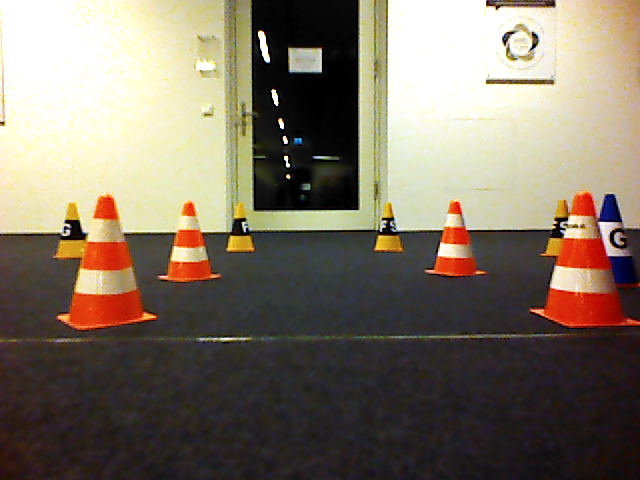bluecone: (610, 193, 639, 288)
orangeconesmall: (156, 200, 222, 283), (423, 198, 488, 279)
yellowcone: (54, 203, 86, 260), (373, 202, 406, 253), (225, 202, 255, 254), (540, 200, 560, 258)
